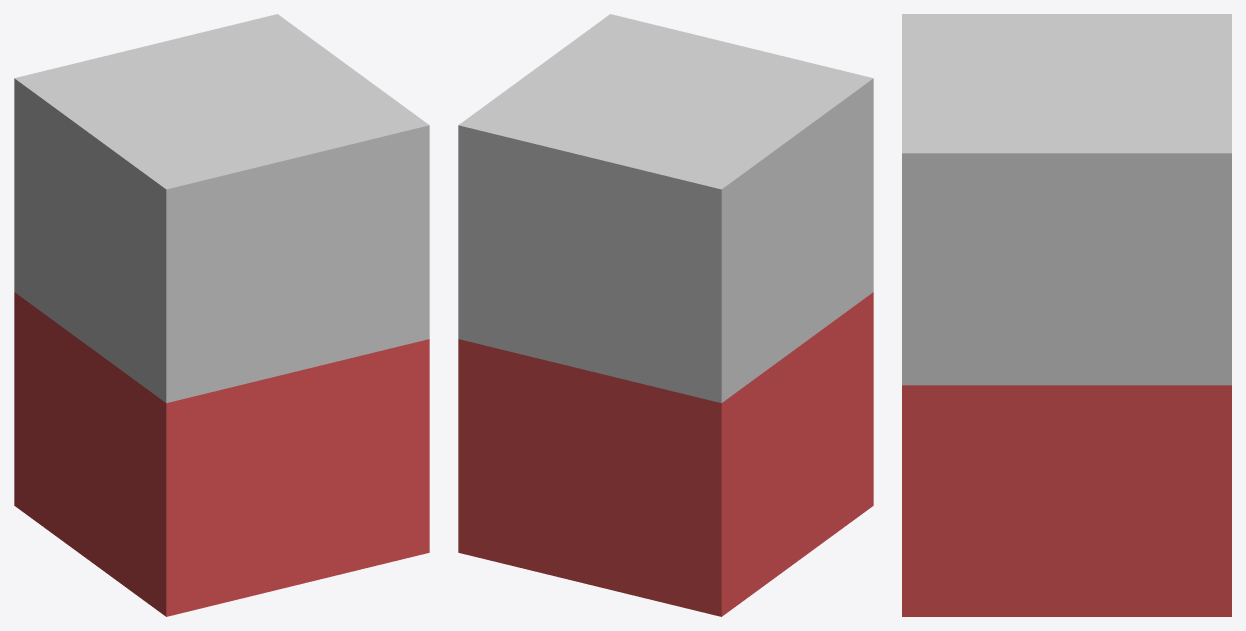
Rendered from Person.fbx.
The picture shows the model from 3 angles, left to right: view 1: azimuth 30°, elevation 25°; view 2: azimuth 150°, elevation 25°; view 3: azimuth 270°, elevation 25°; orthographic projection. The views are drawn at different scales.
Visible parts, largest first — view 1: Person; view 2: Person; view 3: Person.
Boxes of the visible parts, x1,y1,x2,y2 form: Person: (14,14,429,616); Person: (458,14,873,616); Person: (902,14,1231,616).
Size of the model in its own units: 23.72 by 36.8 by 23.72.
